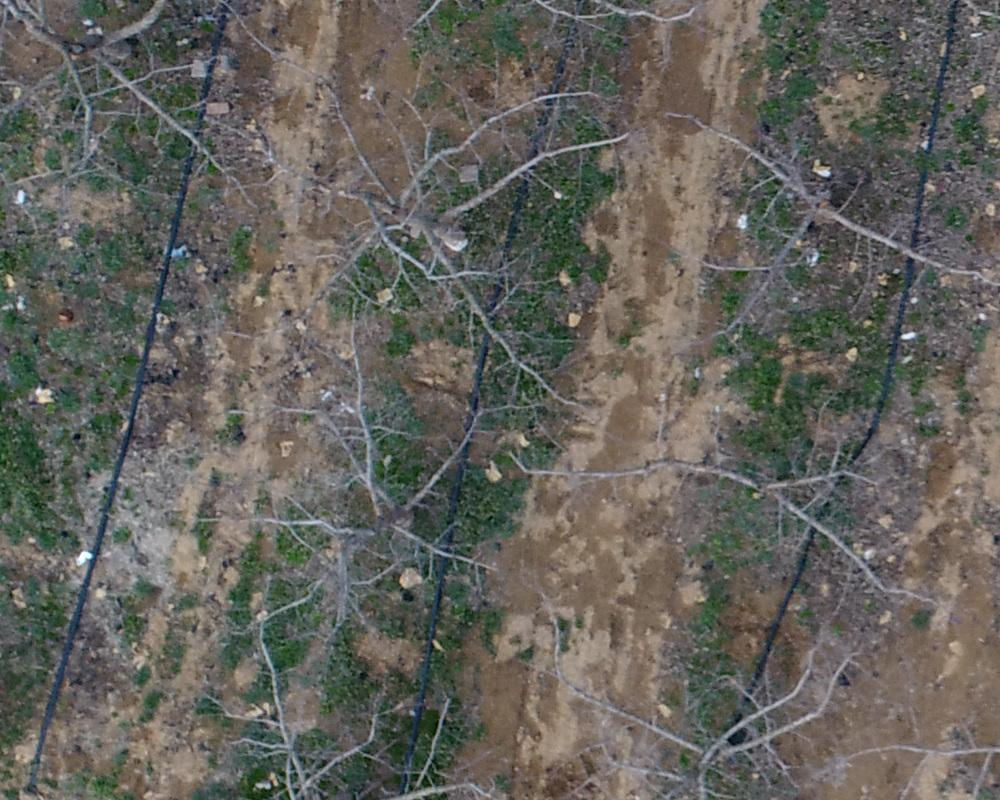apple: (270, 75, 635, 411), (193, 304, 516, 622), (510, 400, 952, 629), (642, 80, 990, 347), (115, 611, 484, 790), (508, 613, 870, 790)
